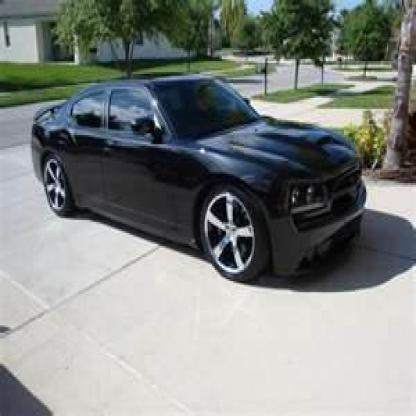Vehicle: (29, 72, 372, 289)
